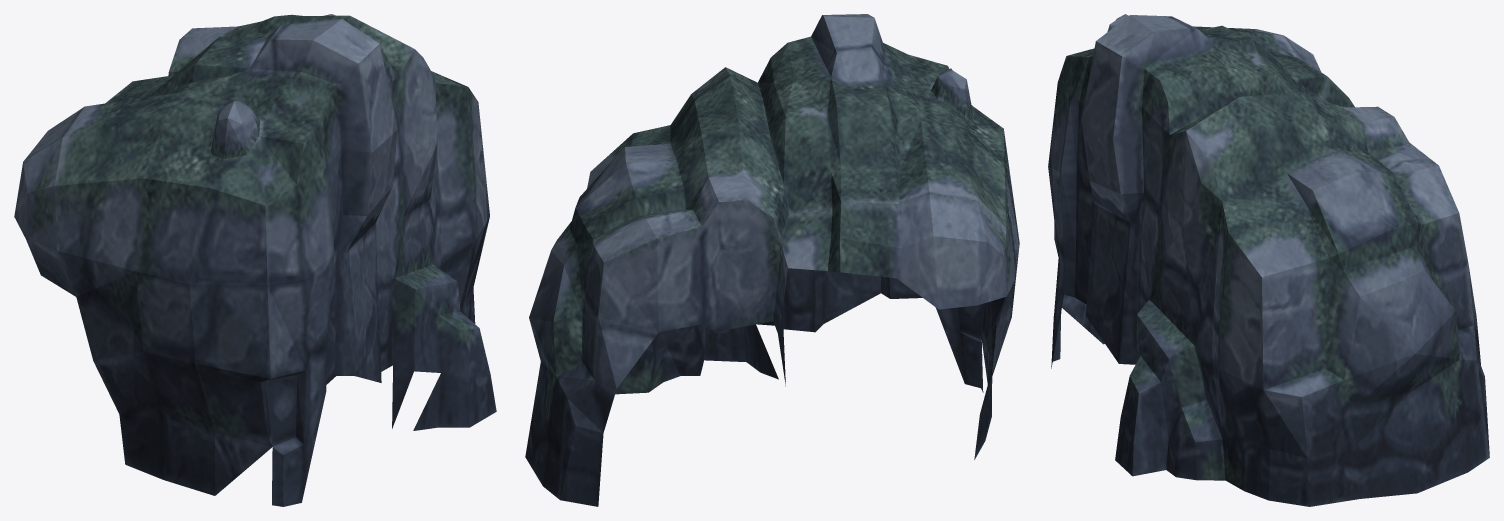
File: cs_lobbynew02_wujian_zhiji_st07.FBX
The picture shows the model from 3 angles, left to right: view 1: azimuth 30°, elevation 25°; view 2: azimuth 150°, elevation 25°; view 3: azimuth 270°, elevation 25°; orthographic projection. The views are drawn at different scales.
Parts seen in each view (by area): view 1: cs_lobbynew02_wujian_zhiji_st07; view 2: cs_lobbynew02_wujian_zhiji_st07; view 3: cs_lobbynew02_wujian_zhiji_st07.
Boxes of the visible parts, <box> form: cs_lobbynew02_wujian_zhiji_st07: <box>14,14,496,506</box>; cs_lobbynew02_wujian_zhiji_st07: <box>525,14,1019,506</box>; cs_lobbynew02_wujian_zhiji_st07: <box>1048,14,1489,506</box>.
Size of the model in its own units: 1313 by 1119 by 1176.
